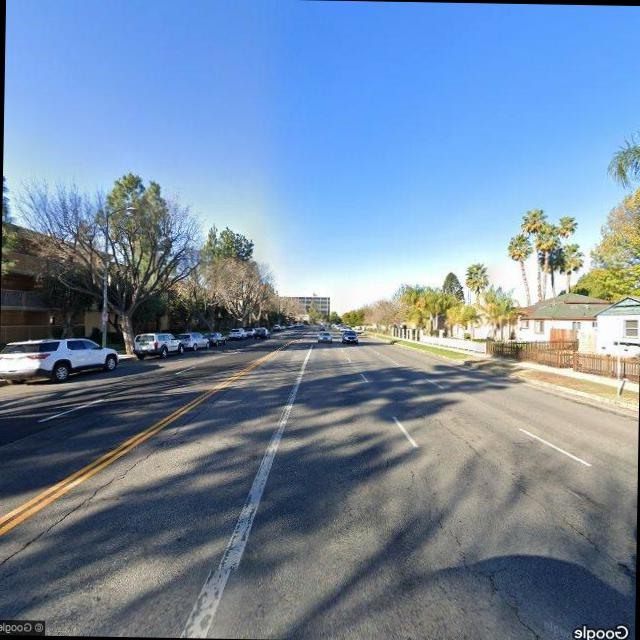pothole: (0, 392, 216, 566), (407, 483, 559, 640), (516, 482, 634, 574)
